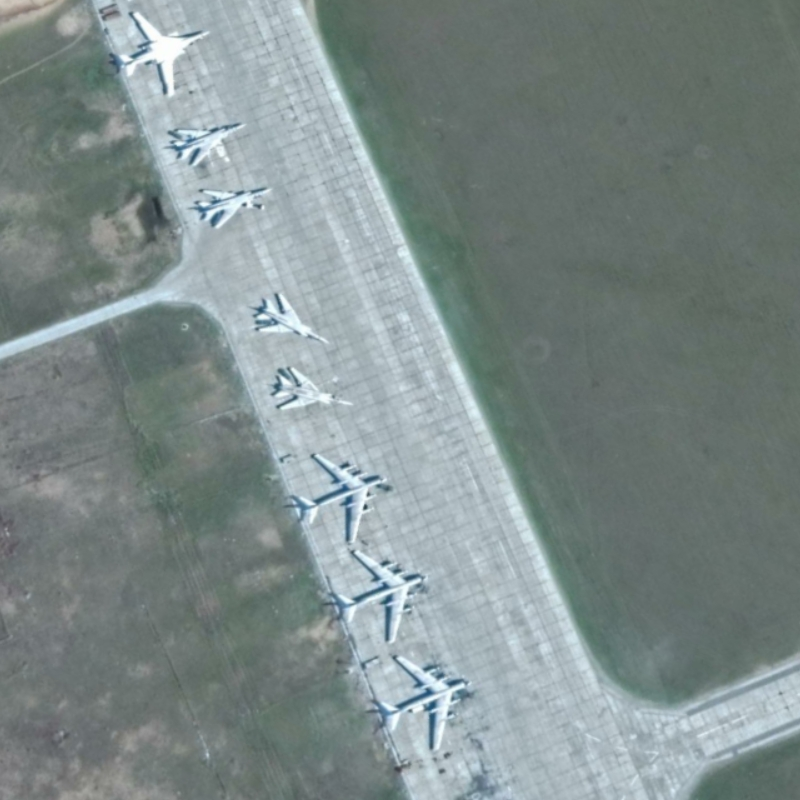A12: (250, 289, 333, 347), (269, 362, 358, 416), (168, 117, 247, 170), (192, 182, 277, 231)
A17: (374, 652, 477, 755), (329, 546, 429, 648), (293, 448, 391, 547)
A6: (113, 9, 212, 102)
